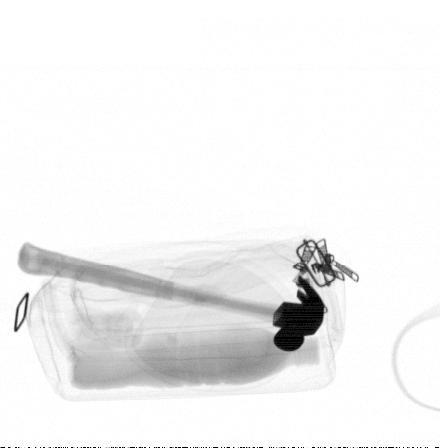Hammer: (16, 241, 325, 353)
